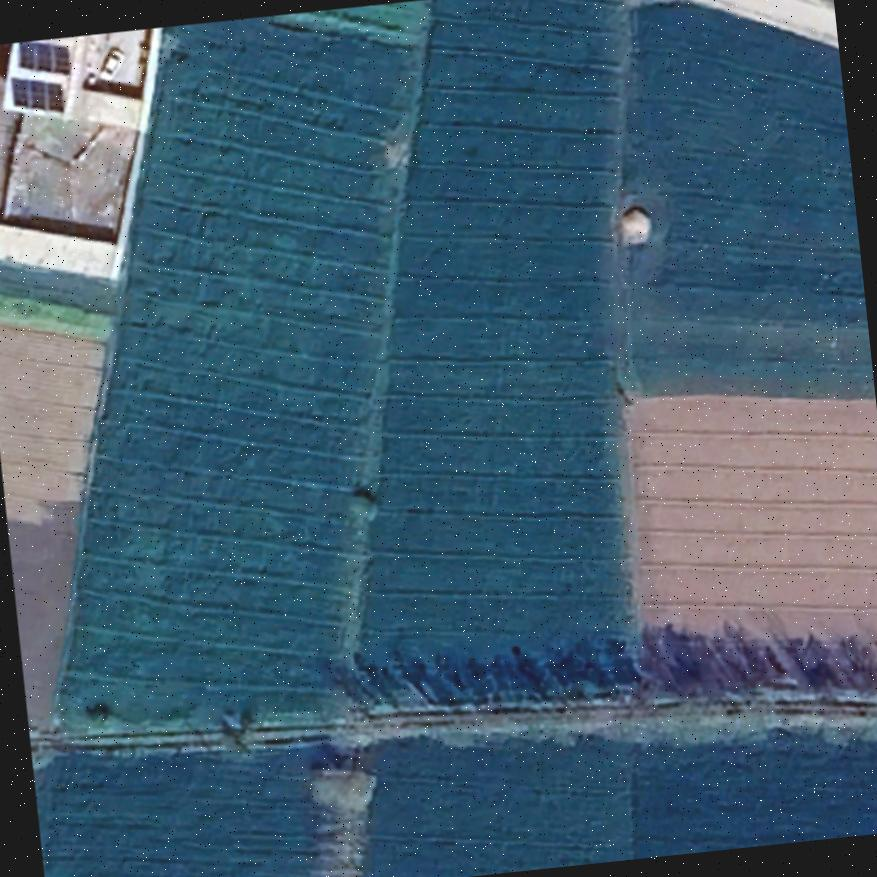Solarpanel: (6, 68, 68, 118), (13, 36, 75, 80)
